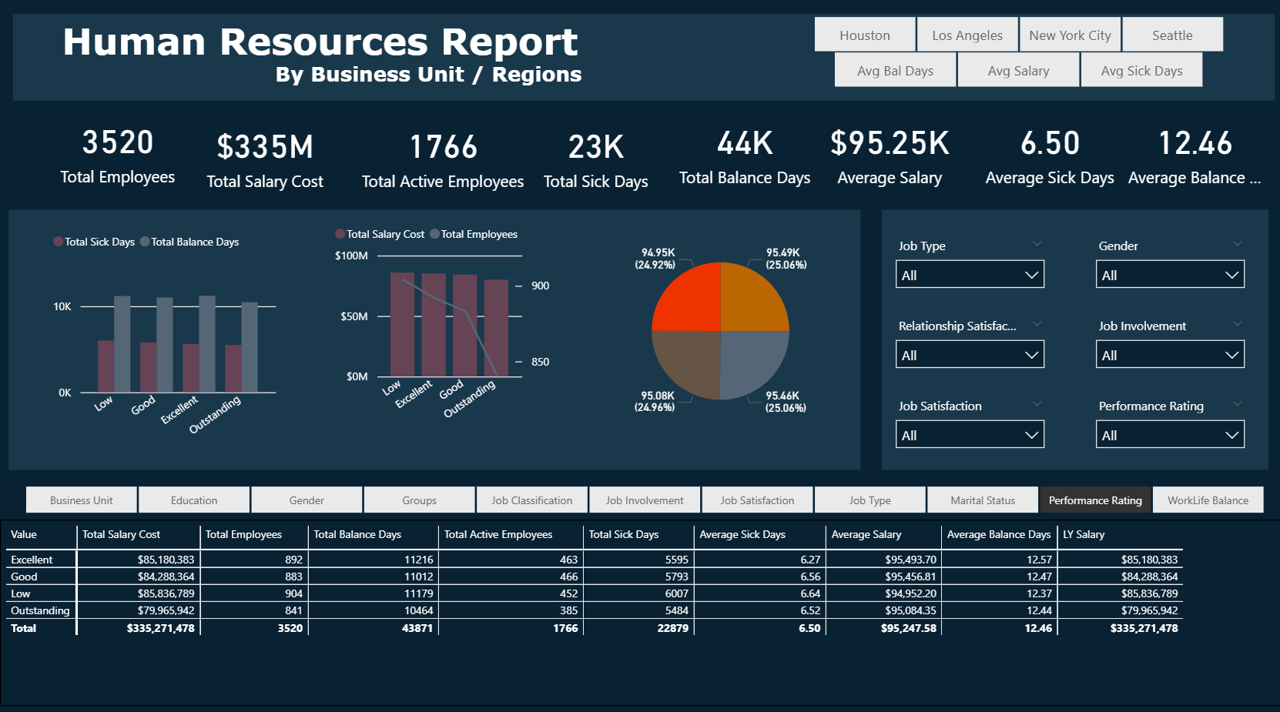

The dashboard page shown, as its layout file describes it:
{"tool":"powerbi","page":{"name":"Business Unit / Region Report","canvas":[1280,720],"ordinal":2},"visuals":[{"type":"basicShape","box":[872,208,392,264],"z":0},{"type":"basicShape","box":[0,208,864,264],"z":1000},{"type":"pivotTable","fields":{"Rows":["Dims.Value"],"Values":["All Measures.Total Salary Cost","All Measures.Total Employees","All Measures.Total Balance Days","All Measures.Total Active Employees","All Measures.Total Sick Days","All Measures.Average Sick Days","All Measures.Average Salary","All Measures.Average Balance Days","All Measures.LY Salary"]},"box":[0,519,1280,185.3],"z":2000},{"type":"basicShape","box":[0,16,1280,88],"z":3000},{"type":"textbox","box":[56,16,544,80],"z":4000},{"type":"card","fields":{"Values":["All Measures.Total Employess"]},"box":[49.2,107.6,136,88],"z":5000},{"type":"card","fields":{"Values":["All Measures.Total Salary Cost"]},"box":[192,112,144,88],"z":6000},{"type":"card","fields":{"Values":["All Measures.Total Active Employees"]},"box":[352,112,176,88],"z":7000},{"type":"card","fields":{"Values":["All Measures.Total Sick Days"]},"box":[528,112,128,88],"z":8000},{"type":"card","fields":{"Values":["All Measures.Total Balance Days"]},"box":[664,104,152,96],"z":9000},{"type":"card","fields":{"Values":["All Measures.Average Salary"]},"box":[808,104,152,96],"z":10000},{"type":"card","fields":{"Values":["All Measures.Average Sick Days"]},"box":[968,104,152,96],"z":11000},{"type":"card","fields":{"Values":["All Measures.Average Balance Days"]},"box":[1112,104,152,96],"z":12000},{"type":"lineStackedColumnComboChart","fields":{"Category":["Dims.Value"],"Y":["All Measures.Total Salary Cost"],"Y2":["All Measures.Total Employees"]},"box":[328,216,224,216],"z":13000},{"type":"clusteredColumnChart","fields":{"Y":["All Measures.Total Sick Days","All Measures.Total Balance Days"],"Category":["Dims.Value"]},"box":[48,224,232,224],"z":14000},{"type":"pieChart","fields":{"Category":["Dims.Value"],"Y":["All Measures.Measure Logic Avg"]},"box":[600,224,232,216],"z":15000},{"type":"slicer","fields":{"Values":["Human Resources.Gender"]},"box":[1080,232,168,64],"z":16000},{"type":"slicer","fields":{"Values":["Human Resources.Job Type"]},"box":[880,232,168,64],"z":17000},{"type":"slicer","fields":{"Values":["Human Resources.Job Involvement"]},"box":[1080,312,168,64],"z":18000},{"type":"slicer","fields":{"Values":["Human Resources.Job Satisfaction"]},"box":[880,392,168,64],"z":19000},{"type":"slicer","fields":{"Values":["Human Resources.Performance Rating"]},"box":[1080,392,168,64],"z":20000},{"type":"slicer","fields":{"Values":["Avg Metrics.Measure"]},"box":[803.8,48.1,415.7,48.1],"z":21000},{"type":"slicer","fields":{"Values":["Human Resources.Relationship Satisfaction"]},"box":[880,312,168,64],"z":22000},{"type":"slicer","fields":{"Values":["Human Resources.Business Unit"]},"box":[784.2,11.6,455.7,48.1],"z":23000},{"type":"slicer","fields":{"Values":["Dims.Dimensions"]},"box":[0,480,1280,40],"z":24000}]}

Visuals, with their boxes in screenshot pixels (x1, y1, x2, y2), scaled from the page's 1280x720 canvas onto the 1280x712 screenshot:
basicShape: x1=872, y1=206, x2=1264, y2=467
basicShape: x1=0, y1=206, x2=864, y2=467
pivotTable - Dims.Value x All Measures.Total Salary Cost: x1=0, y1=513, x2=1279, y2=696
basicShape: x1=0, y1=16, x2=1279, y2=103
textbox: x1=56, y1=16, x2=600, y2=95
card - All Measures.Total Employess: x1=49, y1=106, x2=185, y2=193
card - All Measures.Total Salary Cost: x1=192, y1=111, x2=336, y2=198
card - All Measures.Total Active Employees: x1=352, y1=111, x2=528, y2=198
card - All Measures.Total Sick Days: x1=528, y1=111, x2=656, y2=198
card - All Measures.Total Balance Days: x1=664, y1=103, x2=816, y2=198
card - All Measures.Average Salary: x1=808, y1=103, x2=960, y2=198
card - All Measures.Average Sick Days: x1=968, y1=103, x2=1120, y2=198
card - All Measures.Average Balance Days: x1=1112, y1=103, x2=1264, y2=198
lineStackedColumnComboChart - Dims.Value x All Measures.Total Salary Cost: x1=328, y1=214, x2=552, y2=427
clusteredColumnChart - All Measures.Total Sick Days x All Measures.Total Balance Days: x1=48, y1=222, x2=280, y2=443
pieChart - Dims.Value x All Measures.Measure Logic Avg: x1=600, y1=222, x2=832, y2=435
slicer - Human Resources.Gender: x1=1080, y1=229, x2=1248, y2=293
slicer - Human Resources.Job Type: x1=880, y1=229, x2=1048, y2=293
slicer - Human Resources.Job Involvement: x1=1080, y1=309, x2=1248, y2=372
slicer - Human Resources.Job Satisfaction: x1=880, y1=388, x2=1048, y2=451
slicer - Human Resources.Performance Rating: x1=1080, y1=388, x2=1248, y2=451
slicer - Avg Metrics.Measure: x1=804, y1=48, x2=1220, y2=95
slicer - Human Resources.Relationship Satisfaction: x1=880, y1=309, x2=1048, y2=372
slicer - Human Resources.Business Unit: x1=784, y1=11, x2=1240, y2=59
slicer - Dims.Dimensions: x1=0, y1=475, x2=1279, y2=514
